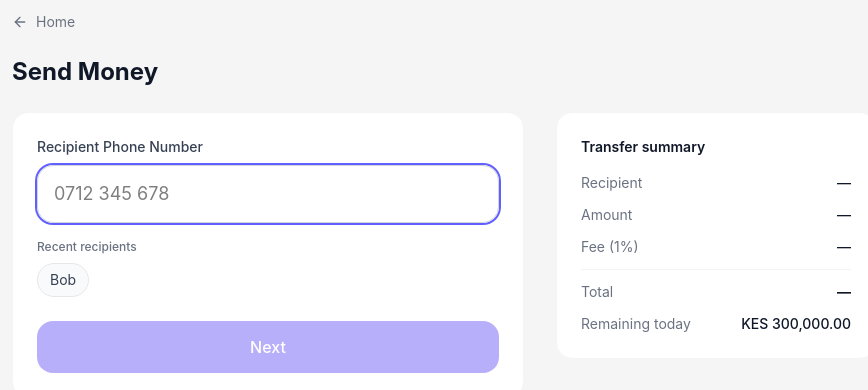
Scenario: SendPage › advances to the amount step once a 10-digit phone number is entered
Type "0712345678" into the field with placeholder "0712 345 678" at (268, 194), box [37,165,499,223]
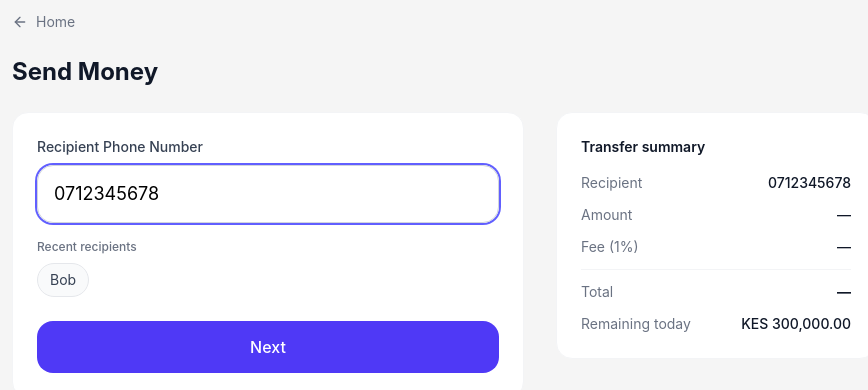
Check: the button "Next" is enabled
Click the button "Next" at (268, 347), box [37,321,499,373]
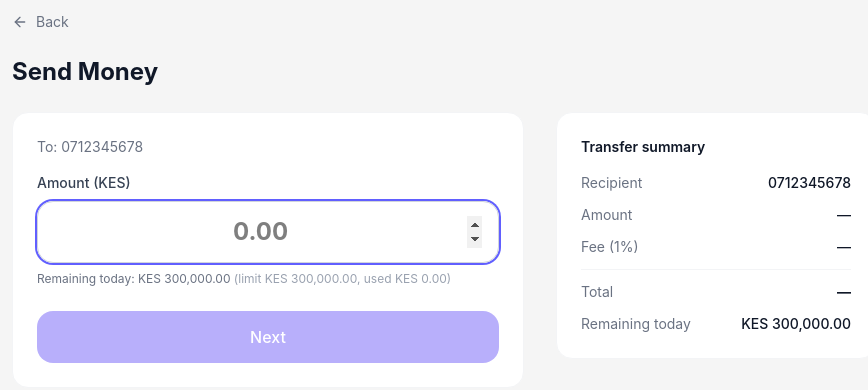
Check: the text "Amount (KES)" is shown, box [37,174,131,191]
Check: the text "To: 0712345678" is shown, box [37,138,143,155]
